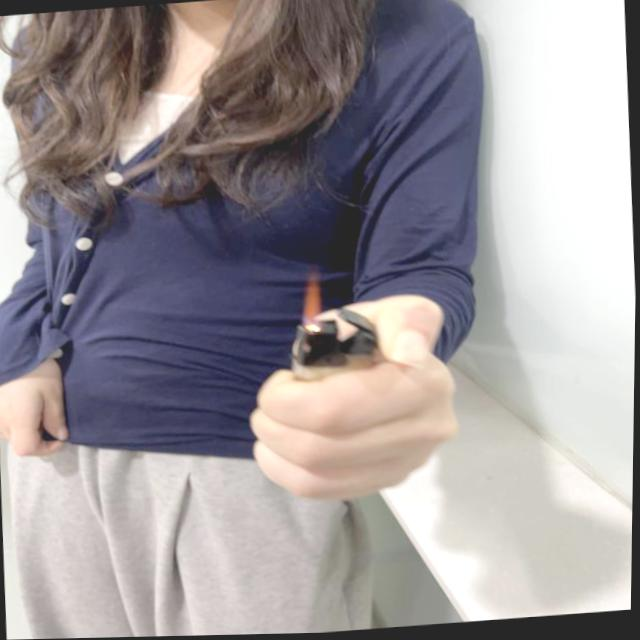helmet: (301, 271, 324, 336)
